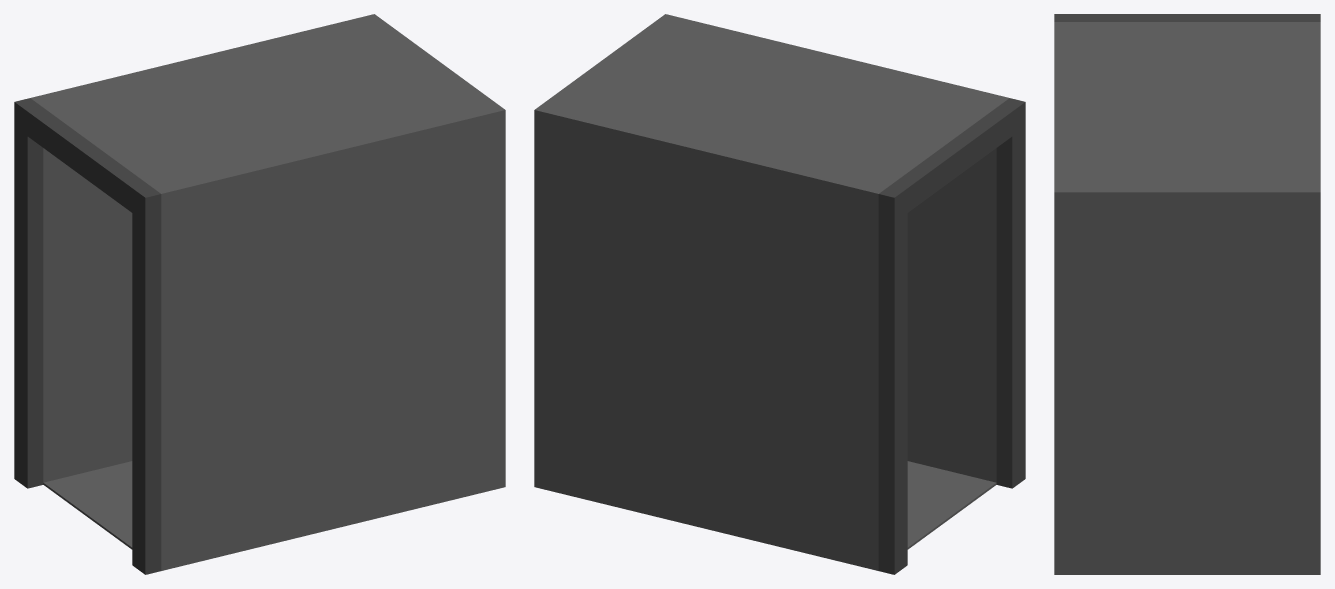
Rendered from EspacioPuerta.fbx.
The picture shows the model from 3 angles, left to right: view 1: azimuth 30°, elevation 25°; view 2: azimuth 150°, elevation 25°; view 3: azimuth 270°, elevation 25°; orthographic projection.
Visible parts, largest first — view 1: PuertaConEspacio; view 2: PuertaConEspacio; view 3: PuertaConEspacio.
Boxes of the visible parts, x1,y1,x2,y2 form: PuertaConEspacio: (14,14,505,574); PuertaConEspacio: (534,14,1025,574); PuertaConEspacio: (1054,14,1320,574).
Size of the model in its own units: 300 by 300 by 189.
2 materials, 2 textured.
